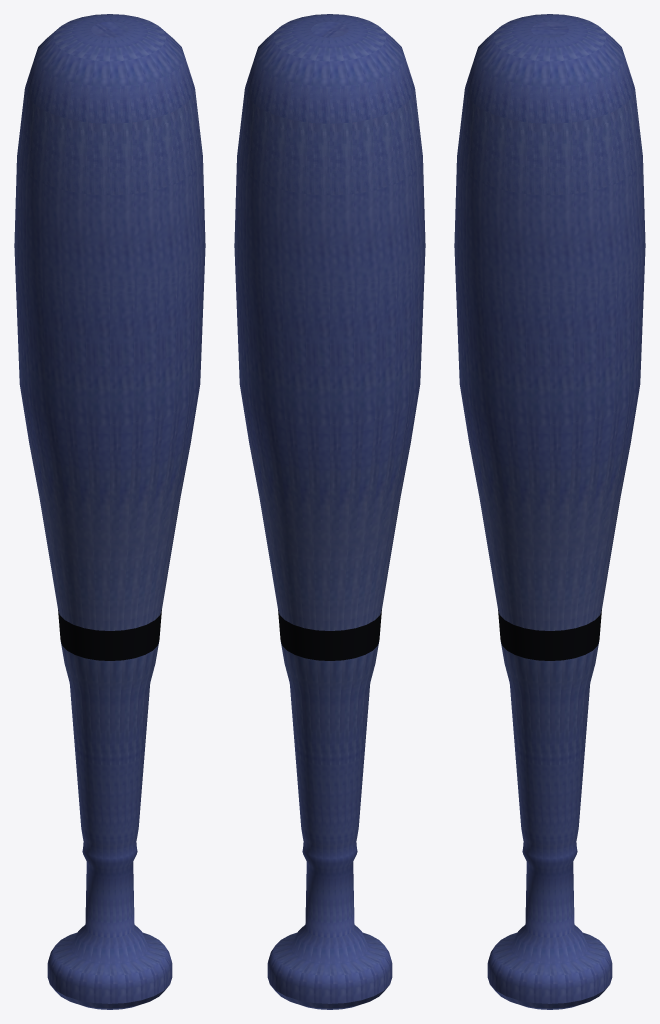
The model's file is baseballbat.fbx.
3 renders of one model, left to right at view 1: azimuth 30°, elevation 25°; view 2: azimuth 150°, elevation 25°; view 3: azimuth 270°, elevation 25°, orthographic.
Parts seen in each view (by area): view 1: Model; view 2: Model; view 3: Model.
Part boxes in pixels (x1=…): Model: x1=14, y1=14, x2=205, y2=1009; Model: x1=234, y1=14, x2=425, y2=1009; Model: x1=454, y1=14, x2=645, y2=1009.
Size of the model in its own units: 0.2697 by 1.5 by 0.2697.
